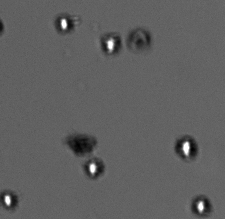Dead Cell: (66, 129, 100, 156), (127, 26, 155, 52)
Living Cell: (174, 134, 200, 161), (100, 32, 121, 57), (84, 156, 105, 179), (191, 194, 212, 215), (53, 13, 73, 35), (1, 189, 20, 211)
